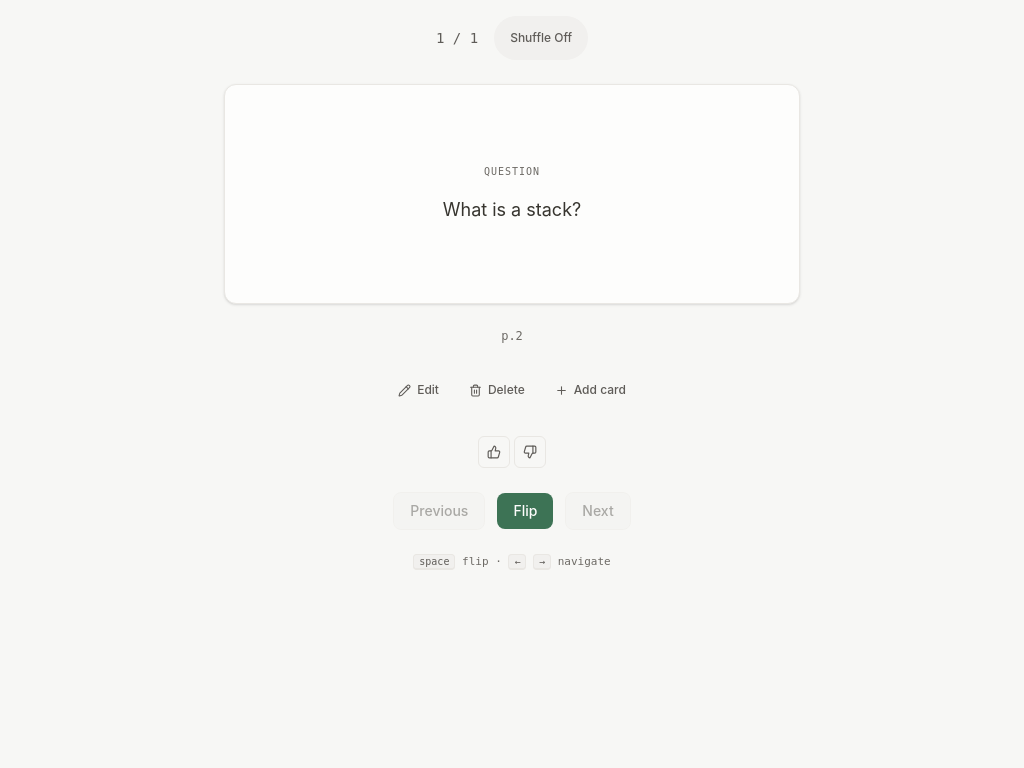
Scenario: flashcard editing › add card posts the week and shows the 409 as "Upload a lecture for this week first"
expect the text "What is a stack?" is shown: met, box [443,199,581,220]
Click the button "Add card": point(590, 390) [544,368,637,412]
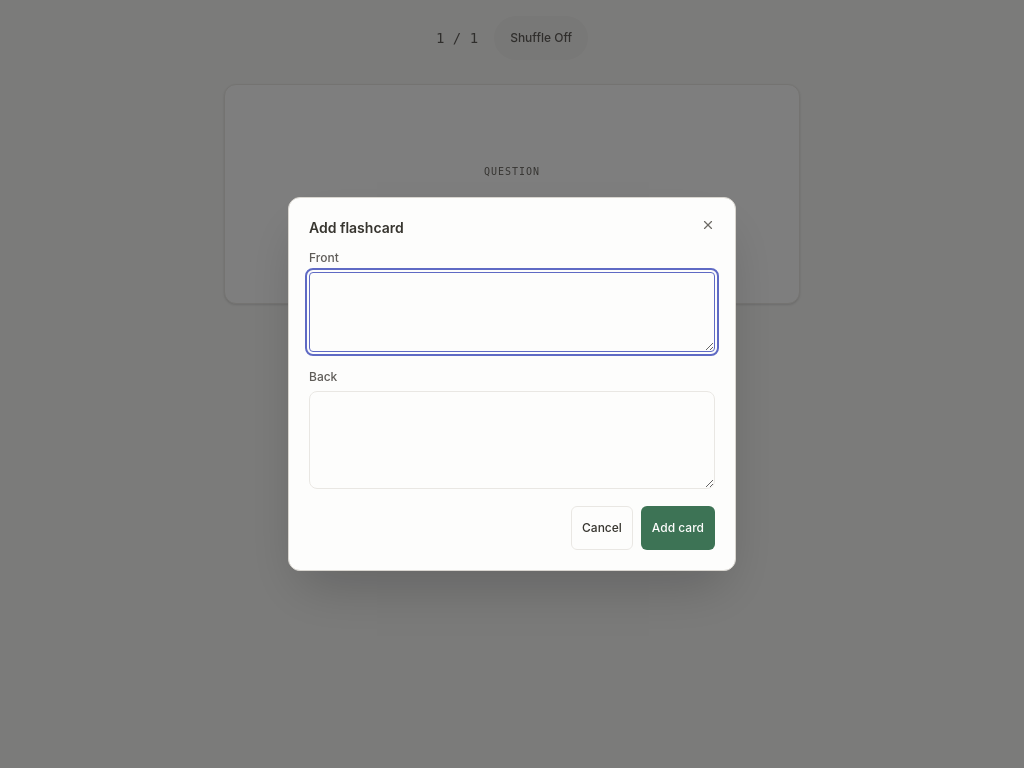
In the text box labelled "Front": point(512, 312) [309,272,715,352], type "Q"
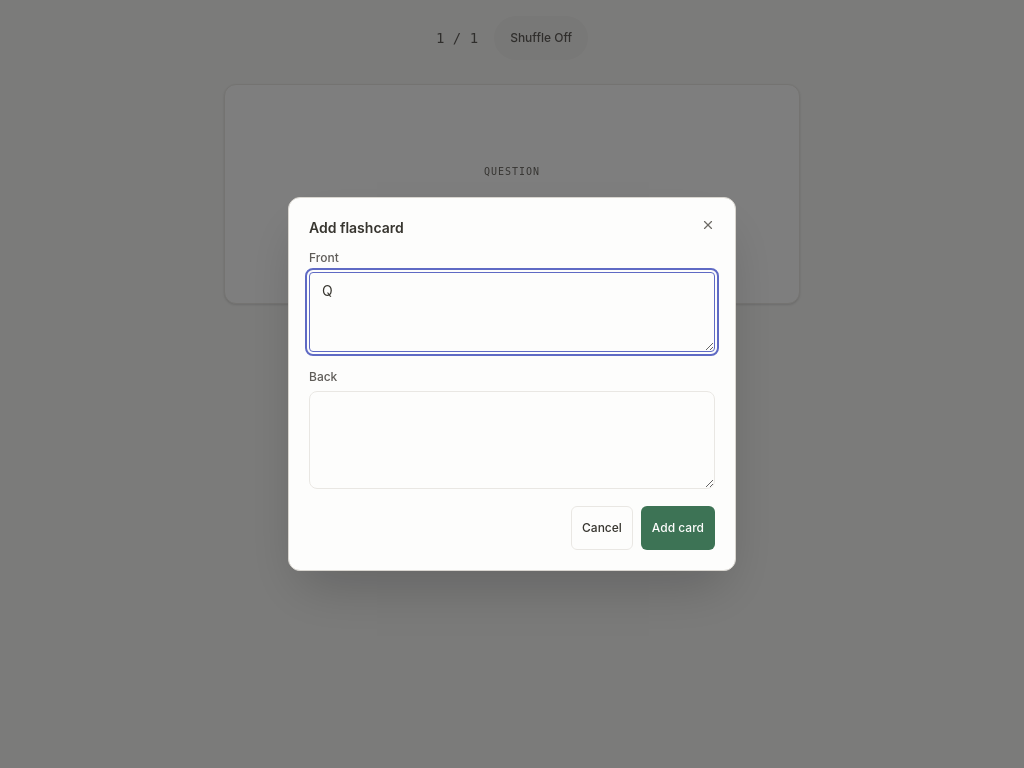
In the text box labelled "Back": point(512, 440) [309,391,715,489], type "A"
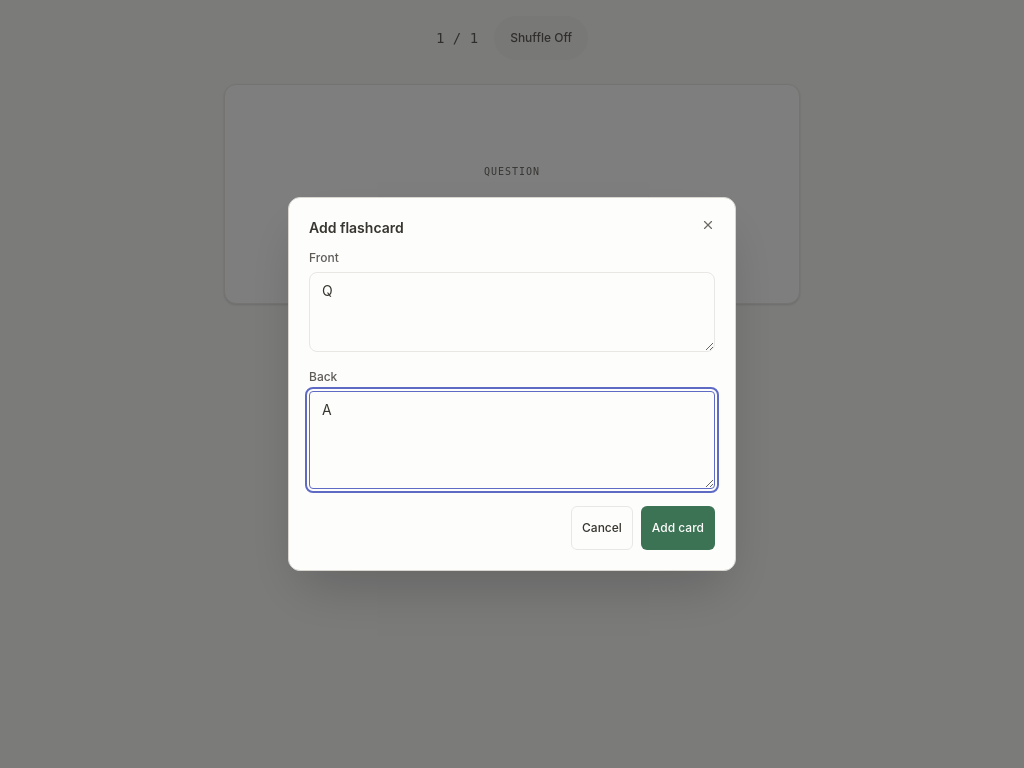
Click the button "Add card": point(678, 528) [641,506,715,550]
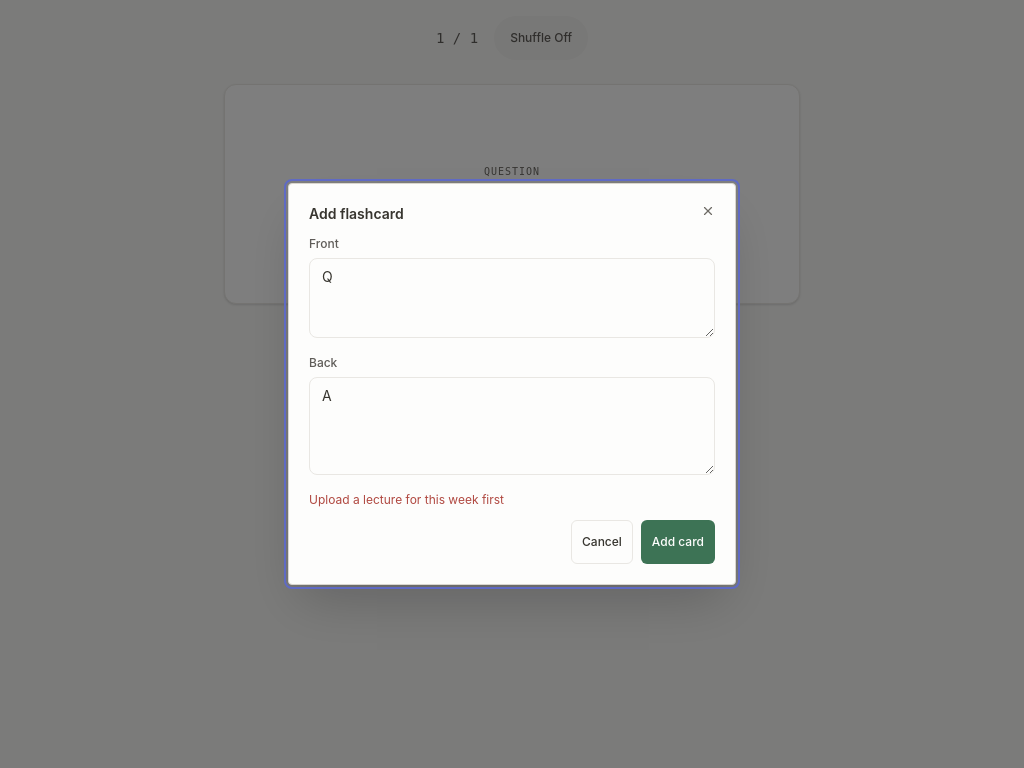
expect the dialog is shown: met, box [288,183,736,585]
expect the message reads "Upload a lecture for this week first": met, box [309,492,504,507]
